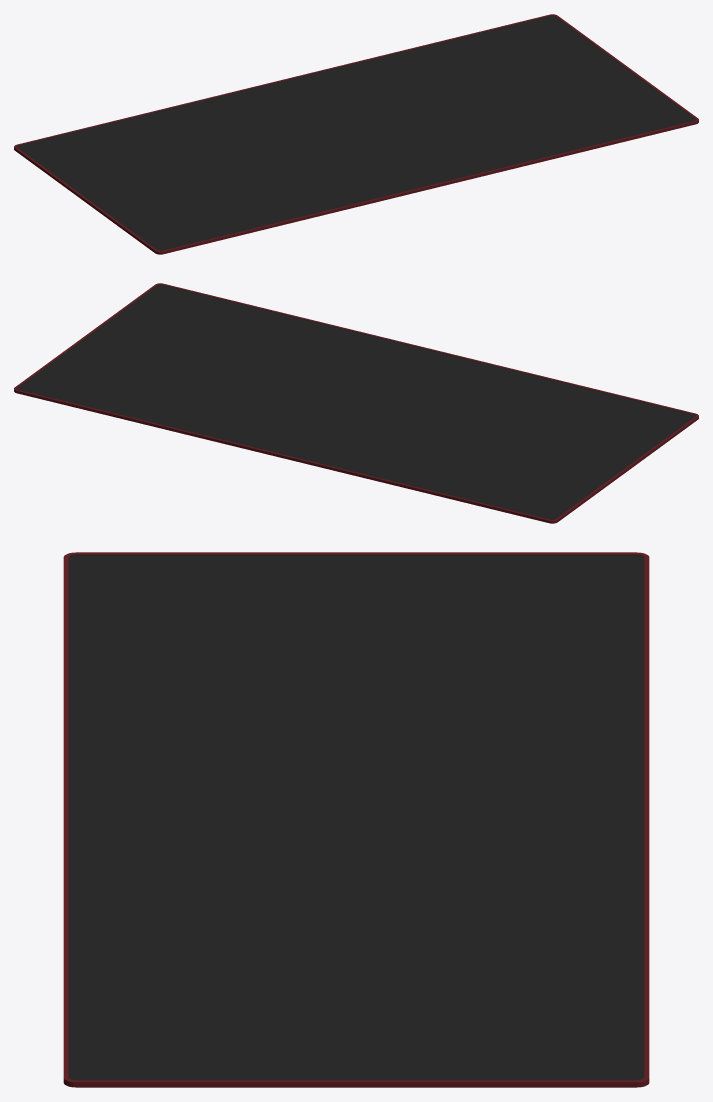
File: MousePad.glb
3 views of the same model, one above another, from view 1: azimuth 30°, elevation 25°; view 2: azimuth 150°, elevation 25°; view 3: azimuth 270°, elevation 25° (orthographic). The views are drawn at different scales.
Parts seen in each view (by area): view 1: Mouse Pads; view 2: Mouse Pads; view 3: Mouse Pads.
Boxes of the visible parts, <box> form: Mouse Pads: <box>14,14,698,254</box>; Mouse Pads: <box>14,283,698,523</box>; Mouse Pads: <box>63,552,649,1087</box>.
Bounding box in the file's own units: 0.899 × 0.004 × 0.42.
